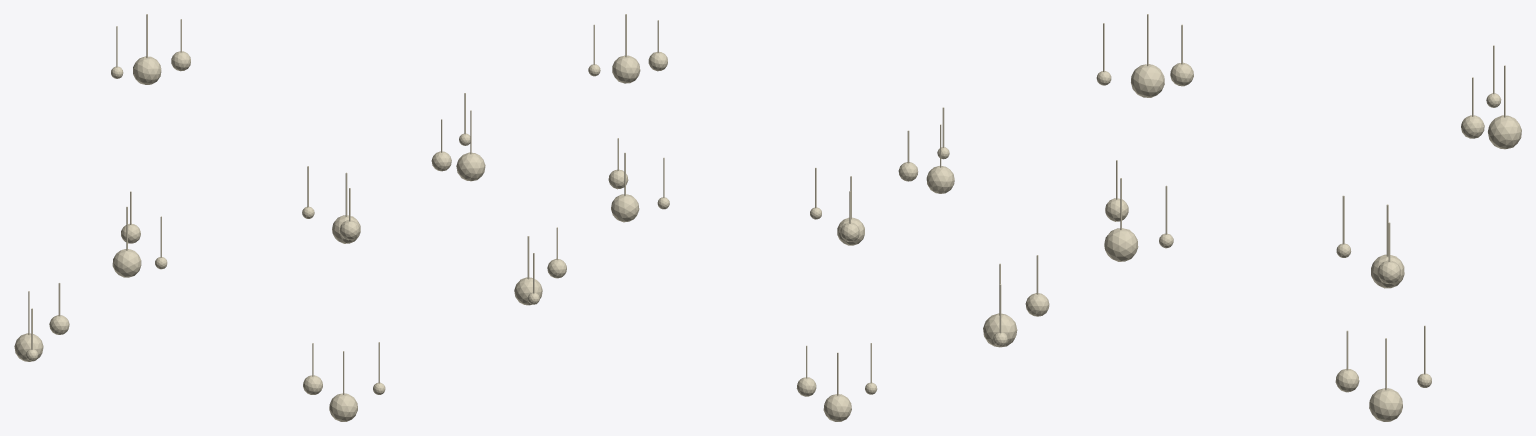
The model's file is chandel.glb.
3 views of the same model, side by side, from view 1: azimuth 30°, elevation 25°; view 2: azimuth 150°, elevation 25°; view 3: azimuth 270°, elevation 25° (orthographic). The views are drawn at different scales.
Visible parts, largest first — view 1: chandel.001; view 2: chandel.001; view 3: chandel.001.
Part boxes in pixels (x1,y1,x2,y2): chandel.001: [14, 14, 485, 421]; chandel.001: [514, 14, 954, 421]; chandel.001: [983, 14, 1521, 421].
Bounding box in the file's own units: 5.83 × 4.06 × 6.25.
